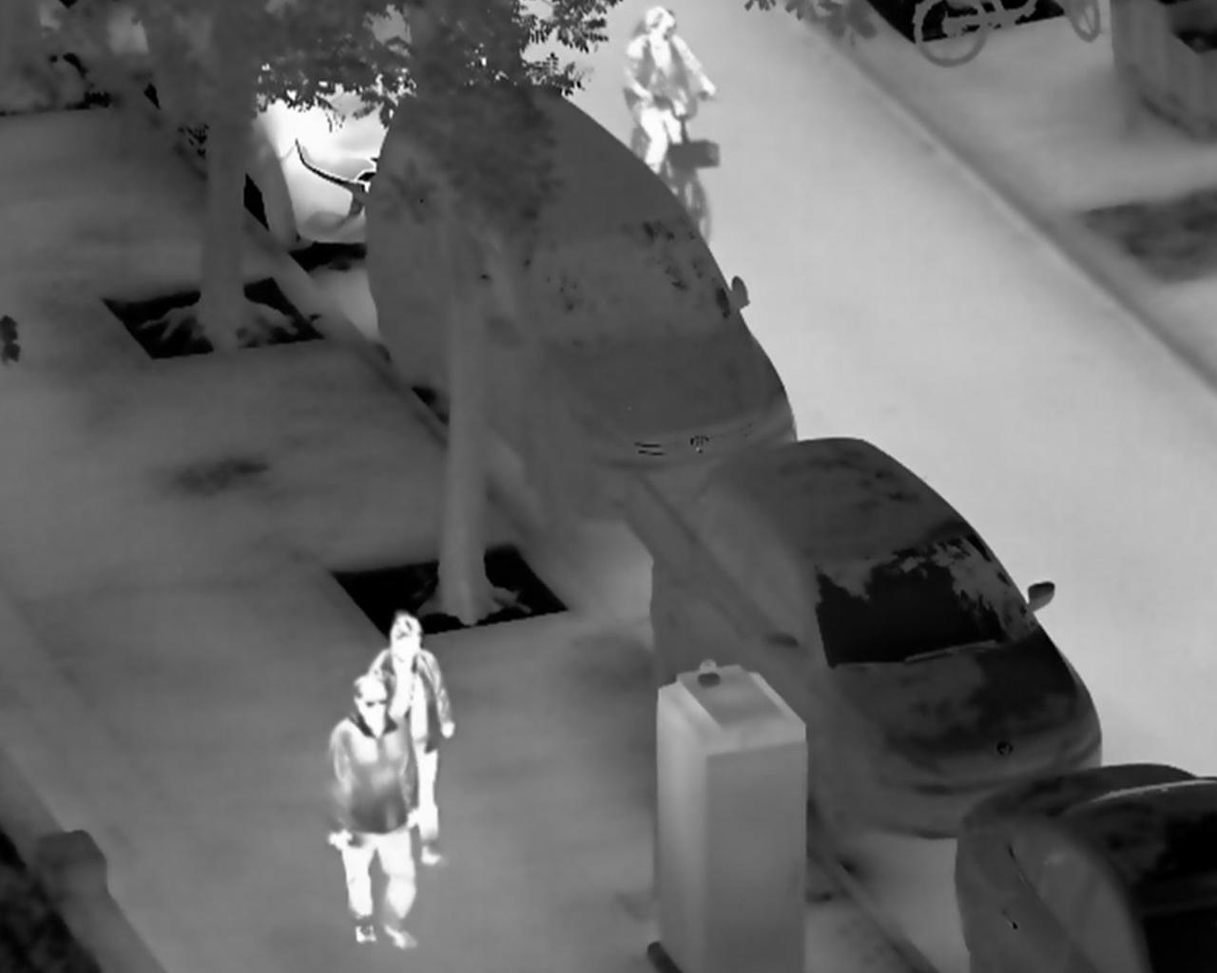person: (328, 675, 422, 955), (363, 608, 457, 871), (619, 2, 720, 175)
